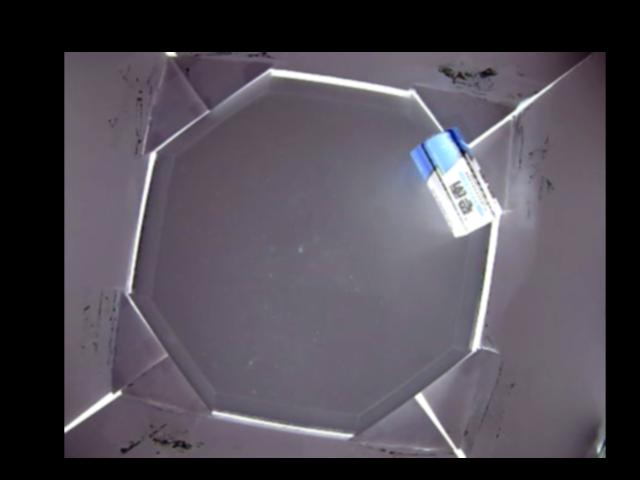Battery: (409, 130, 505, 234)
